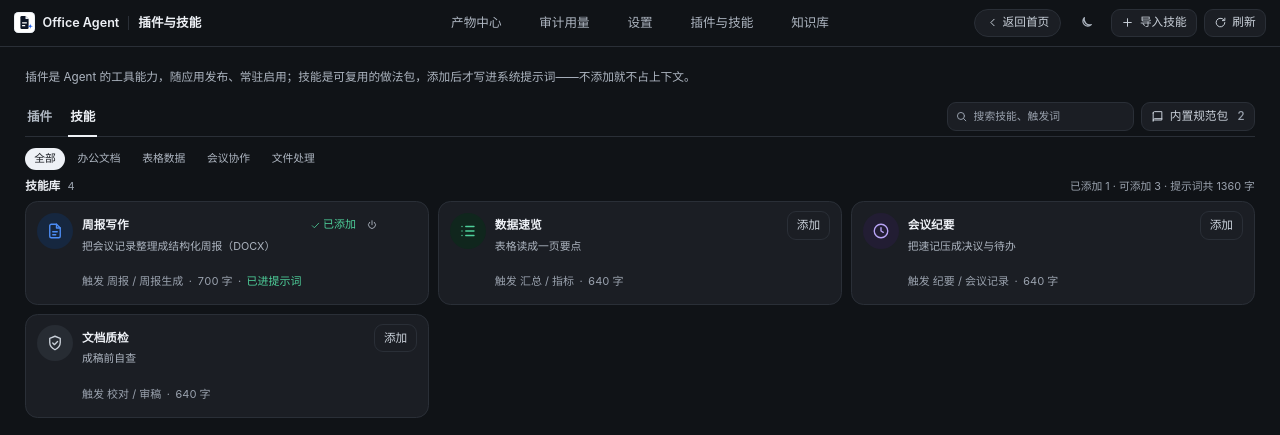
Test: SkillsPage › 插件 tab 的搜索按插件名与工具名过滤
Expected: the element with test id "skills-grid" is shown, [25,201,1255,418]
Click the tab "插件": (40, 122) [25,106,54,137]
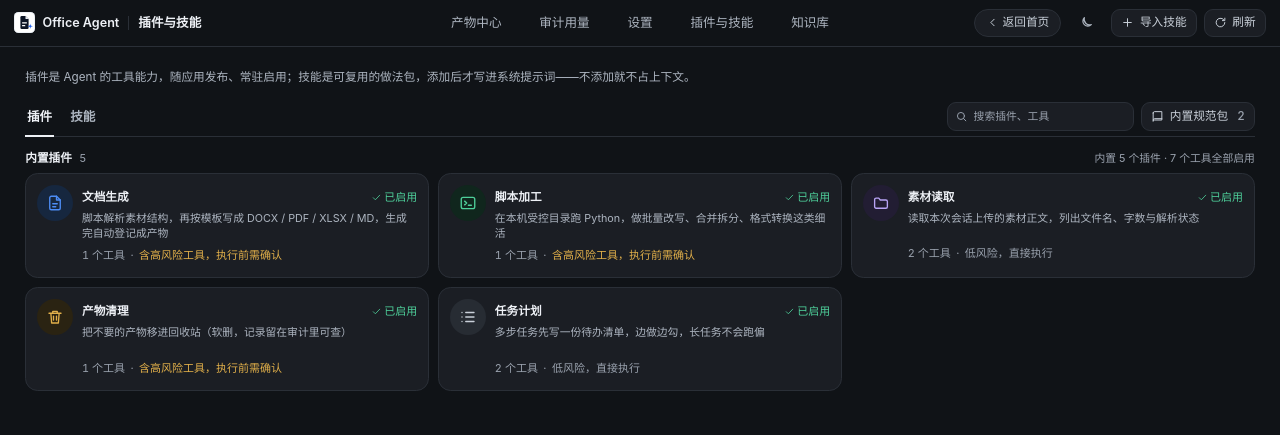
In the field labelled "搜索插件": (1050, 116) [974,108,1126,124], type "file.read"
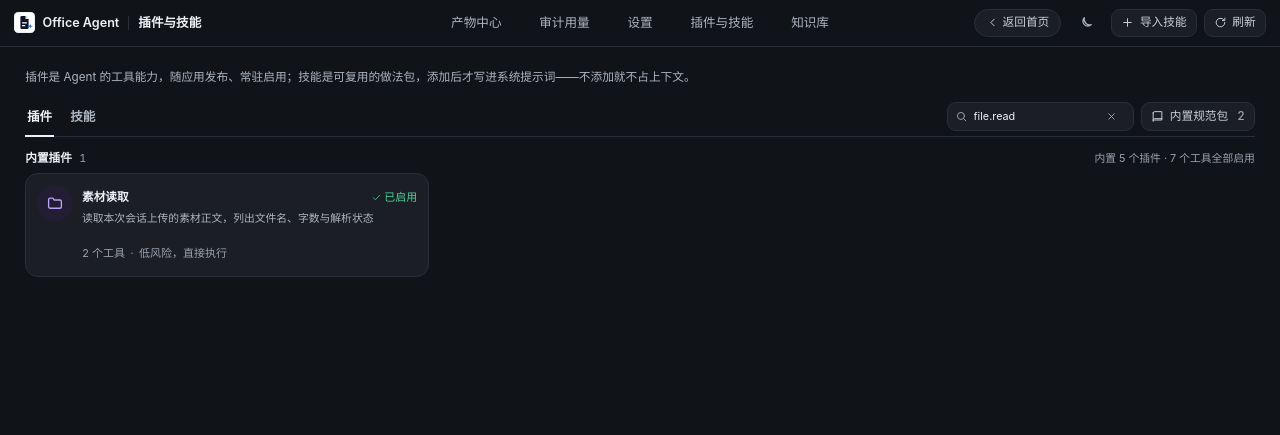
Expected: the heading "素材读取" is shown, [82,190,129,204]
Expected: the heading "文档生成" is gone
